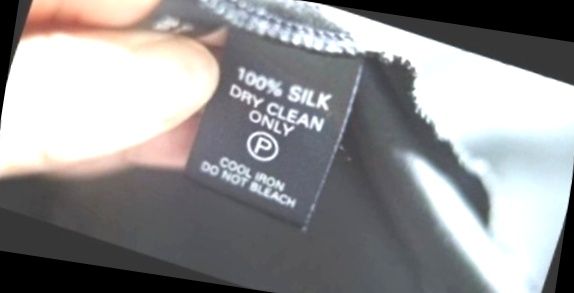dry_clean_any_solvent_except_trichloroethylene: (236, 119, 292, 173)
